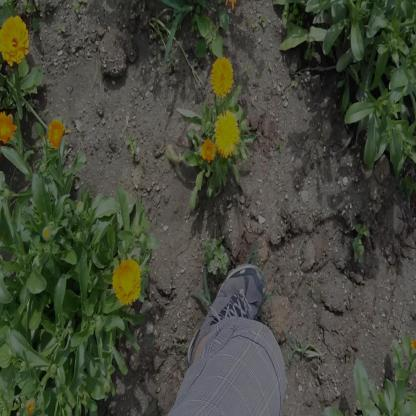marigold: (111, 262, 140, 306), (1, 17, 28, 62), (216, 110, 240, 155), (211, 57, 234, 97), (48, 121, 64, 146)
